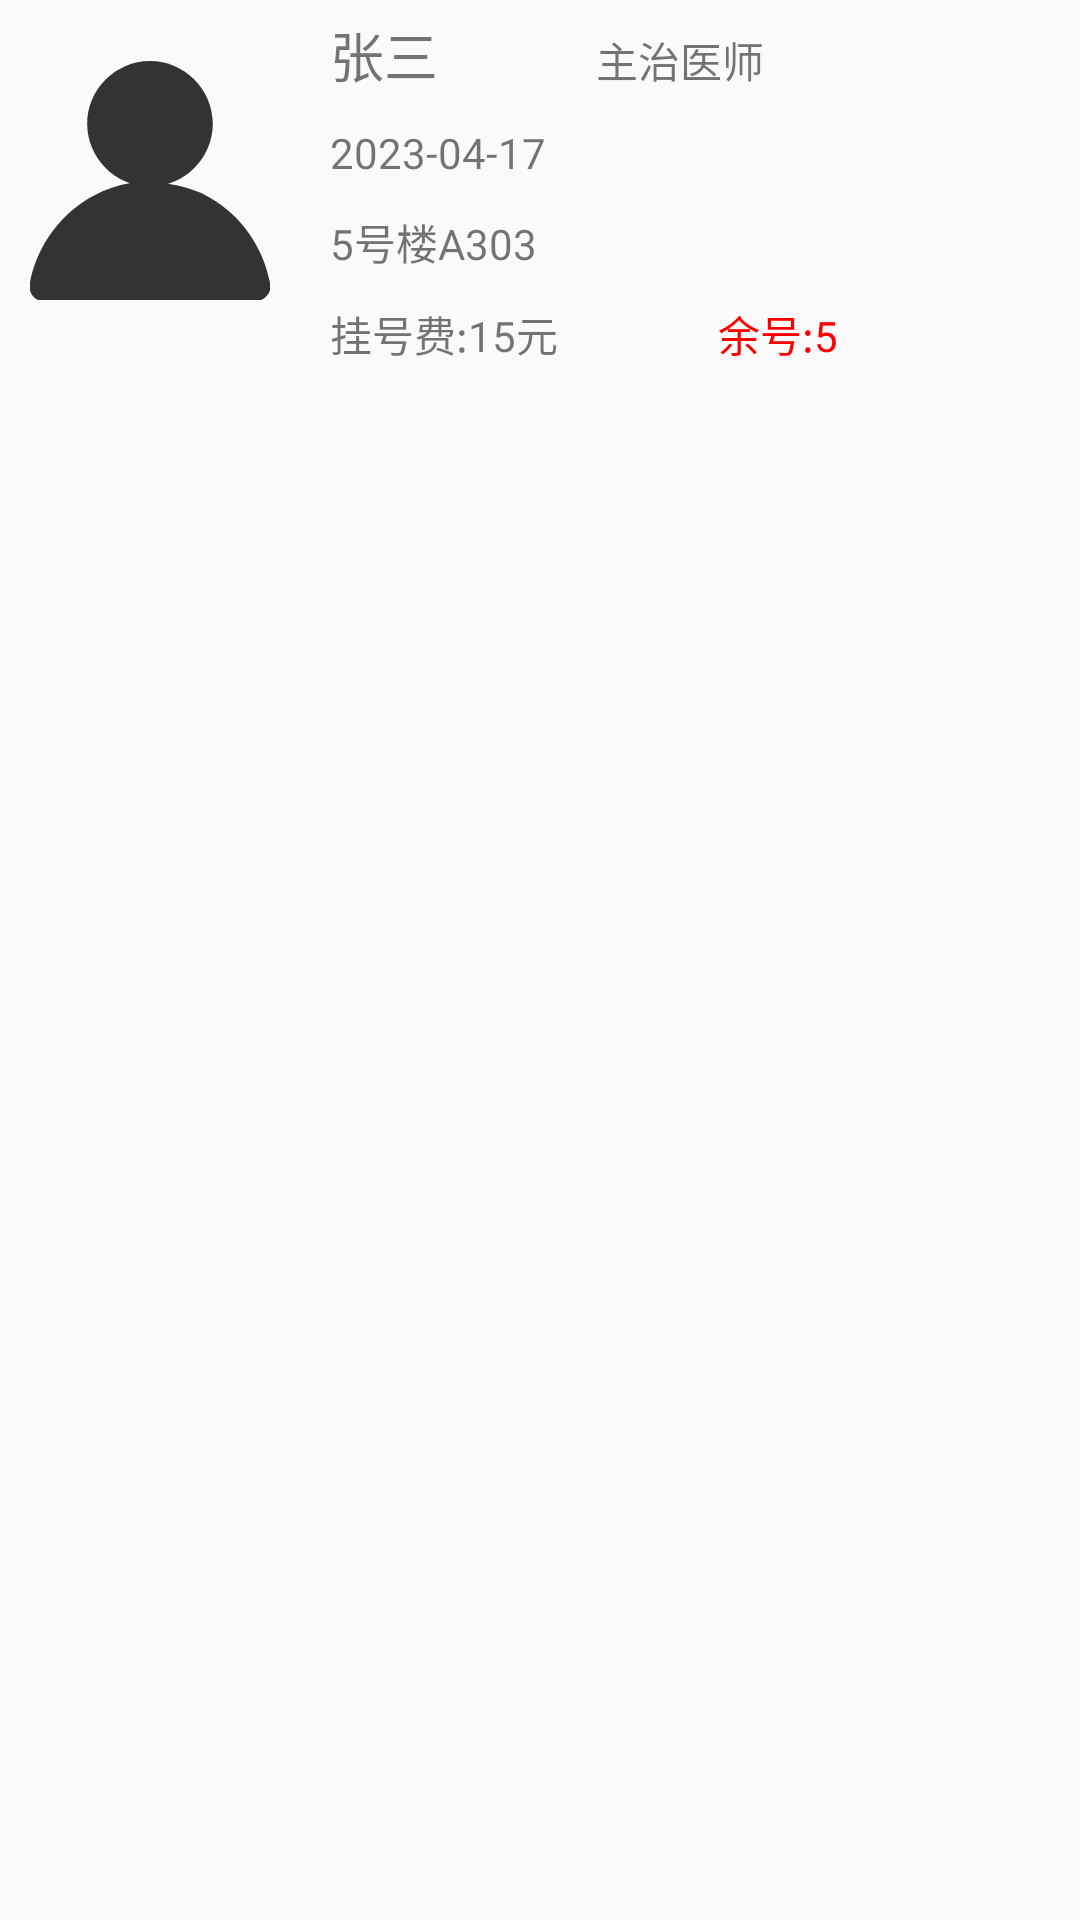

Locate icon controls on the screen. Image size 1080px x 1920px, boxes as BBox(x1, y1, x2, y2).
myself: BBox(30, 61, 270, 300)
